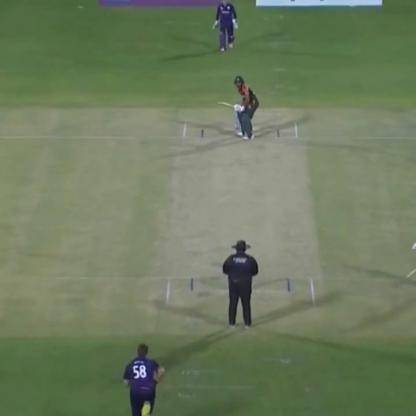bat: (210, 96, 242, 111)
pitch: (163, 120, 309, 313)
